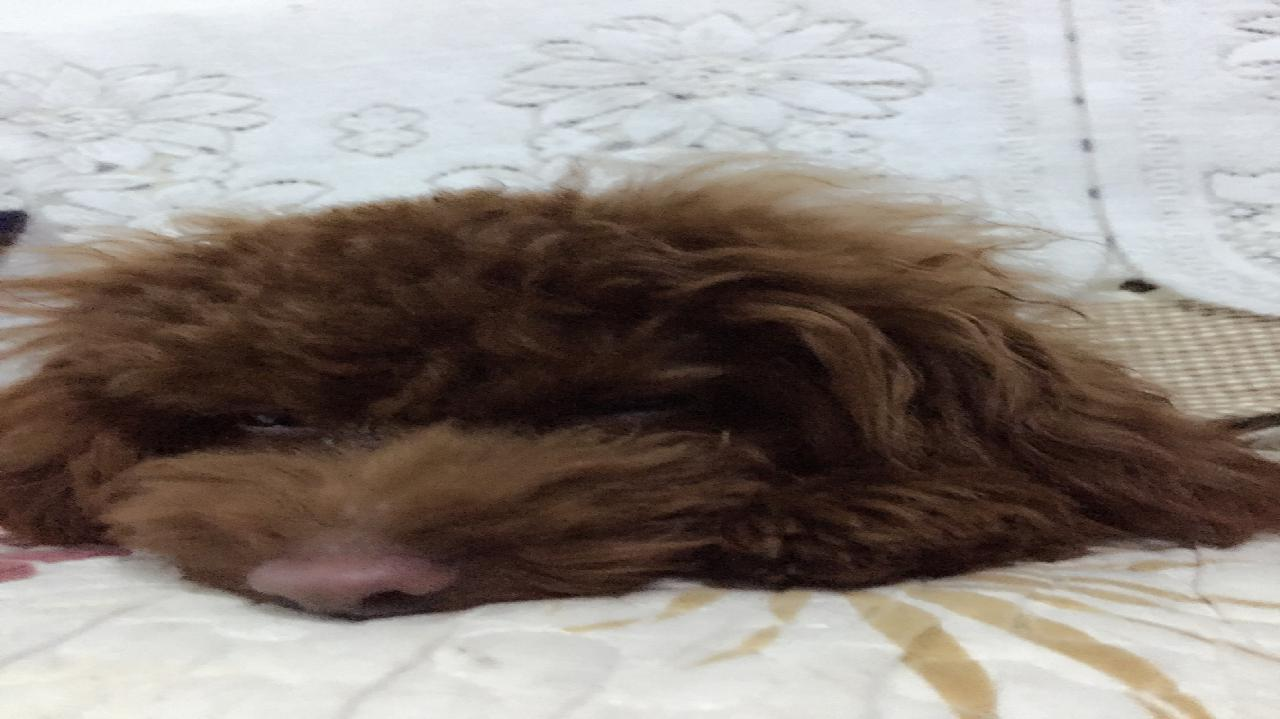zhuangzhuang: (20, 169, 1133, 649)
